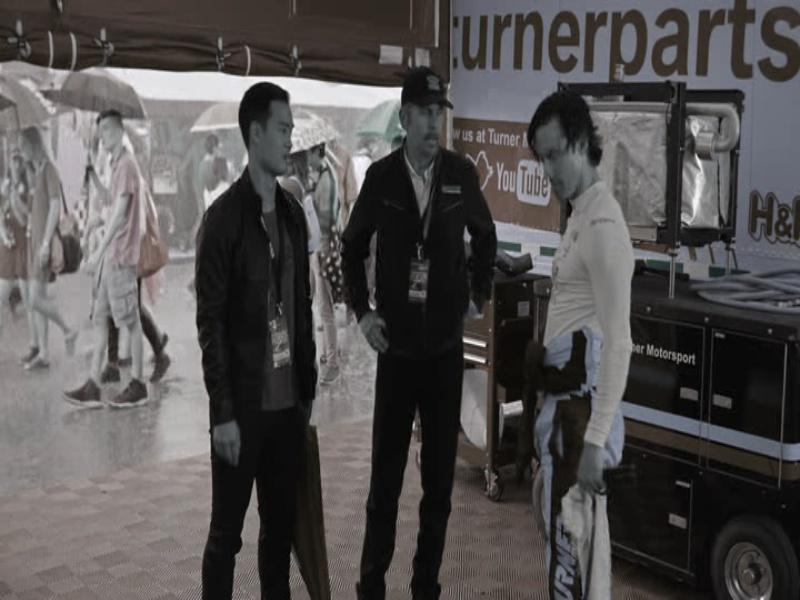TsisyArotava: (523, 99, 605, 214), (235, 80, 301, 182), (393, 66, 457, 161)
